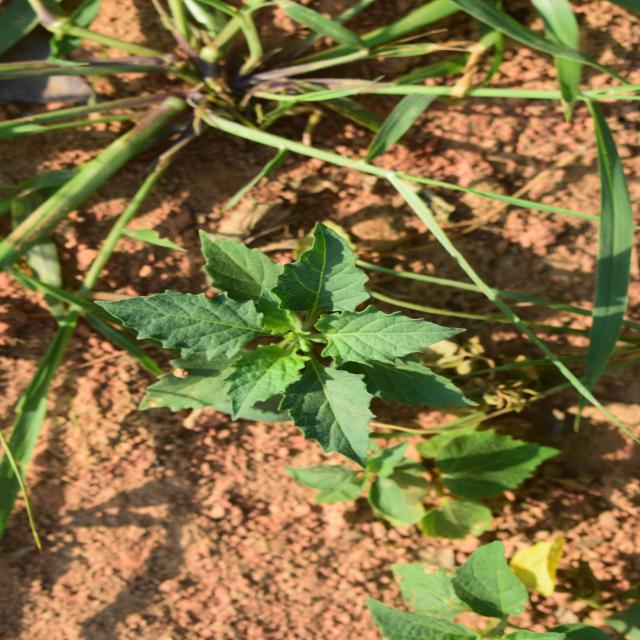Black_nightshade: (199, 103, 413, 430)
